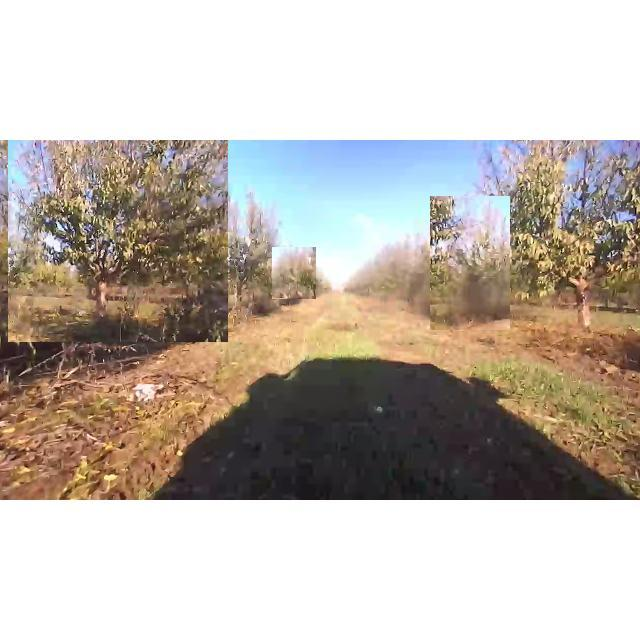direk: (8, 140, 228, 342), (472, 140, 640, 342), (204, 179, 280, 327), (430, 196, 510, 330), (272, 247, 316, 299), (262, 258, 288, 300)
